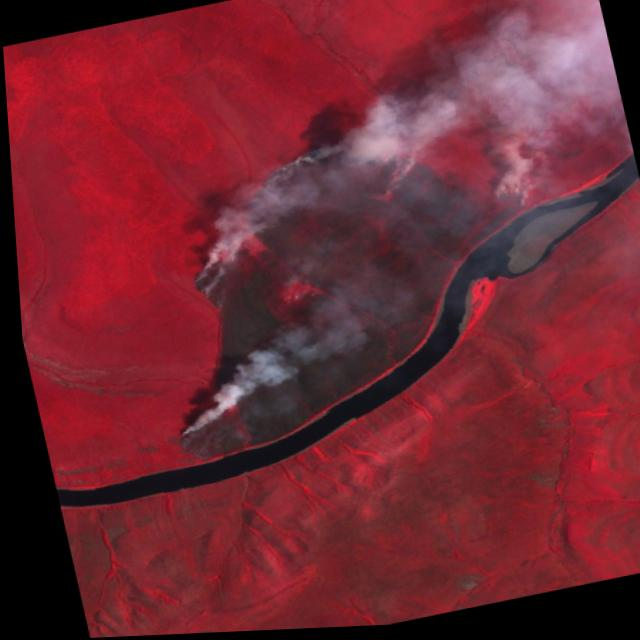fire: (89, 102, 585, 476)
